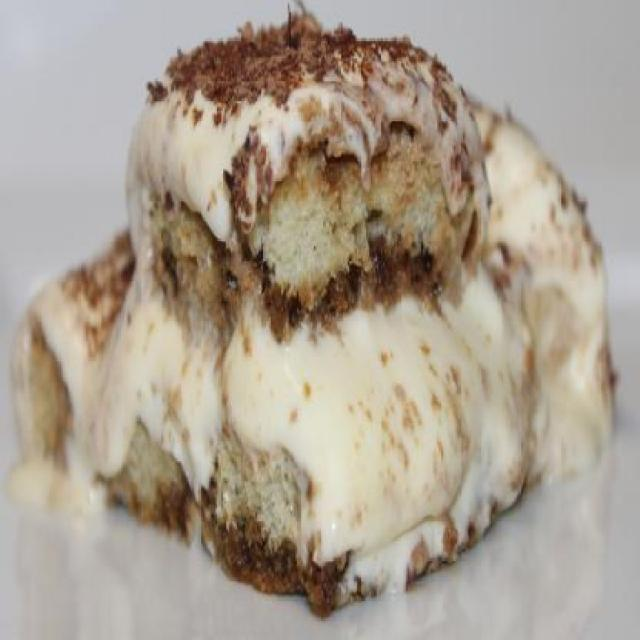Tiramisu: (73, 30, 638, 587)
